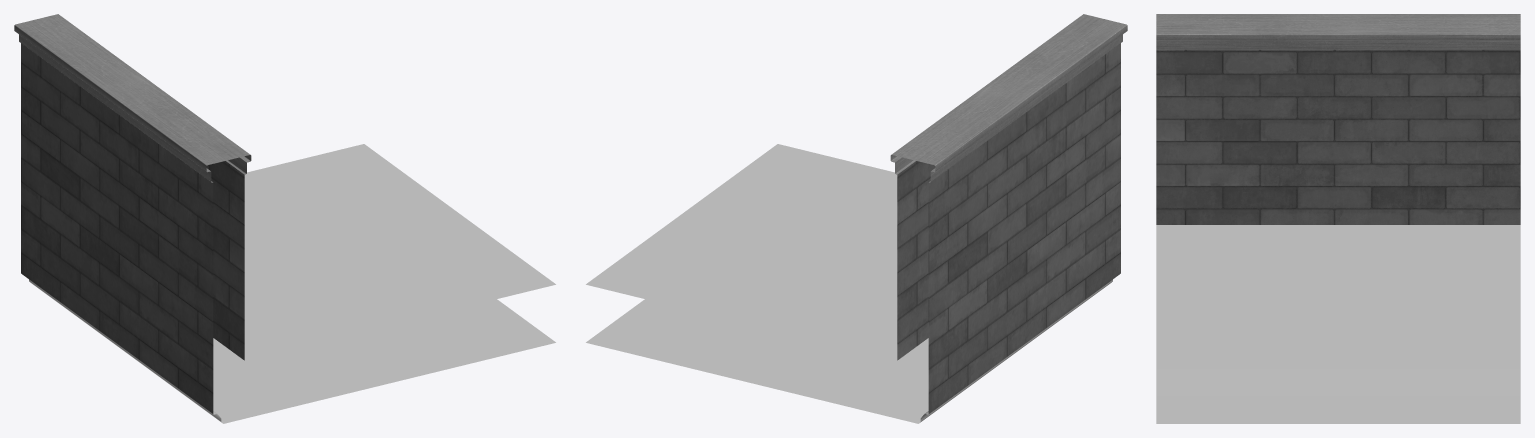
File: SM_Balcony_01_Straight.fbx
3 renders of one model, left to right at view 1: azimuth 30°, elevation 25°; view 2: azimuth 150°, elevation 25°; view 3: azimuth 270°, elevation 25°, orthographic. The views are drawn at different scales.
Parts seen in each view (by area): view 1: SM_Balcony_01_Straight_LOD0; view 2: SM_Balcony_01_Straight_LOD0; view 3: SM_Balcony_01_Straight_LOD0.
Boxes of the visible parts, x1,y1,x2,y2 form: SM_Balcony_01_Straight_LOD0: (14, 14, 555, 423); SM_Balcony_01_Straight_LOD0: (586, 14, 1127, 423); SM_Balcony_01_Straight_LOD0: (1156, 14, 1520, 423).
Bounding box in the file's own units: 158 × 150 × 113.
